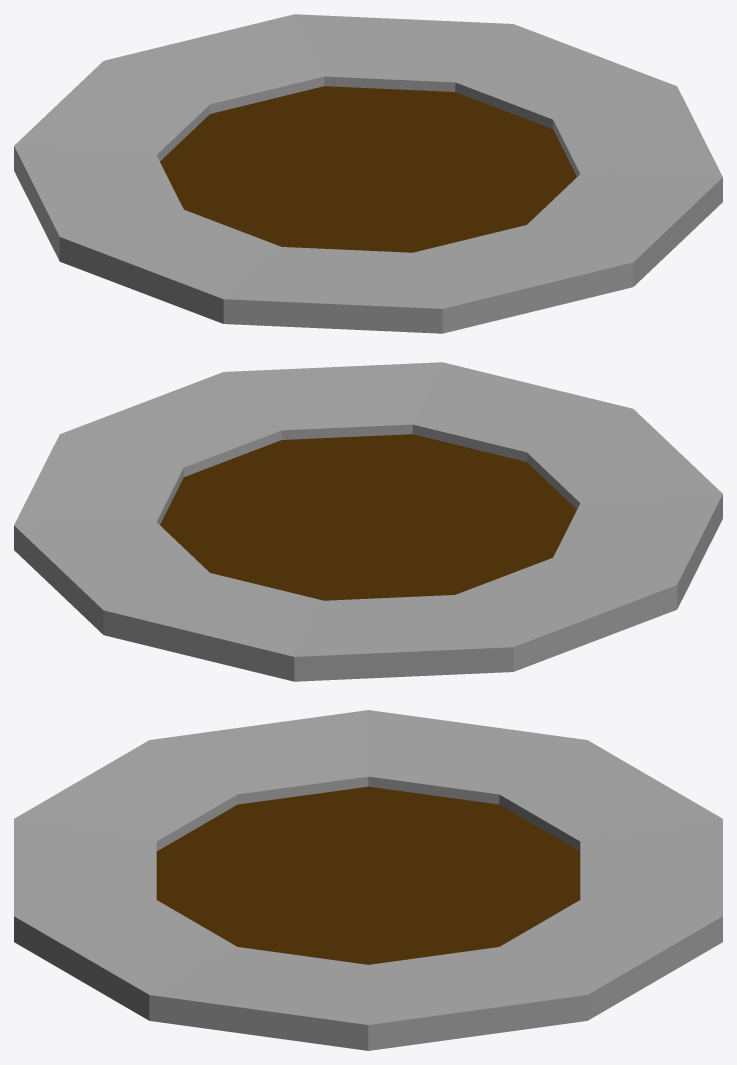
File: treebase.fbx
The picture shows the model from 3 angles, top to bottom: view 1: azimuth 30°, elevation 25°; view 2: azimuth 150°, elevation 25°; view 3: azimuth 270°, elevation 25°; orthographic projection. The views are drawn at different scales.
Visible parts, largest first — view 1: pCylinder1; view 2: pCylinder1; view 3: pCylinder1.
Part boxes in pixels (x1=…): pCylinder1: x1=14, y1=14, x2=722, y2=333; pCylinder1: x1=14, y1=362, x2=722, y2=681; pCylinder1: x1=14, y1=710, x2=722, y2=1050.
Bounding box in the file's own units: 7 × 0.2685 × 6.66.
